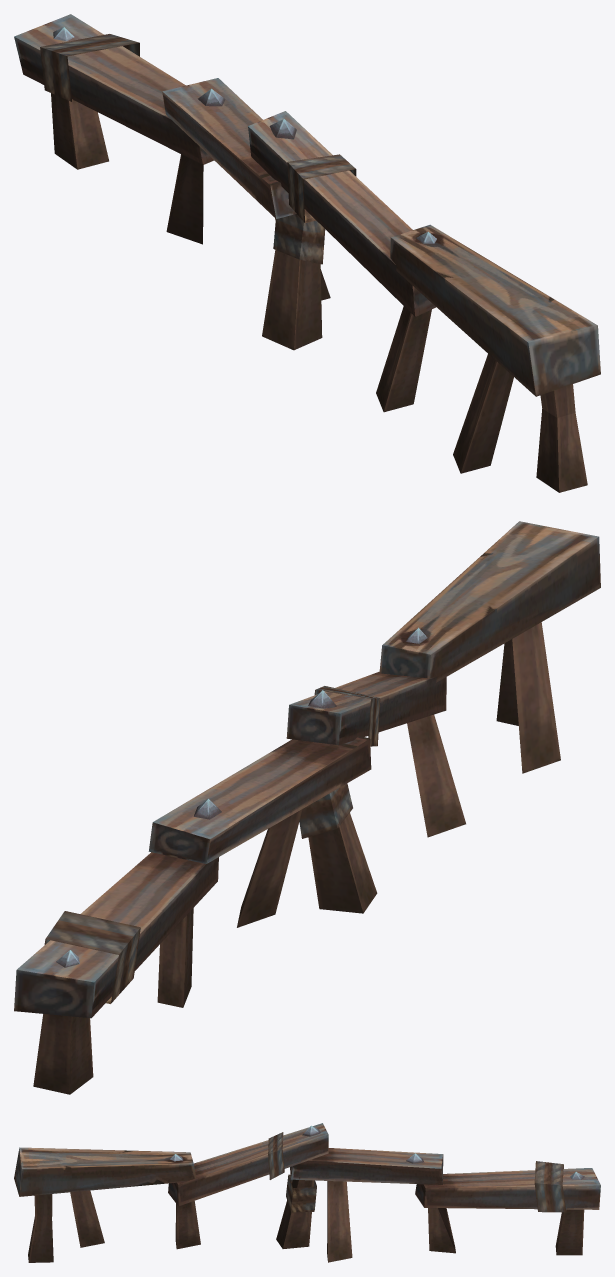
File: mine_railing03.fbx
3 renders of one model, top to bottom at view 1: azimuth 30°, elevation 25°; view 2: azimuth 150°, elevation 25°; view 3: azimuth 270°, elevation 25°, orthographic. The views are drawn at different scales.
Visible parts, largest first — view 1: obj0.131; view 2: obj0.131; view 3: obj0.131.
Part boxes in pixels (x1,y1,x2,y2): obj0.131: (14, 14, 600, 492); obj0.131: (14, 521, 600, 1094); obj0.131: (14, 1123, 600, 1262).
Bounding box in the file's own units: 0.8773 × 1.77 × 7.87.
